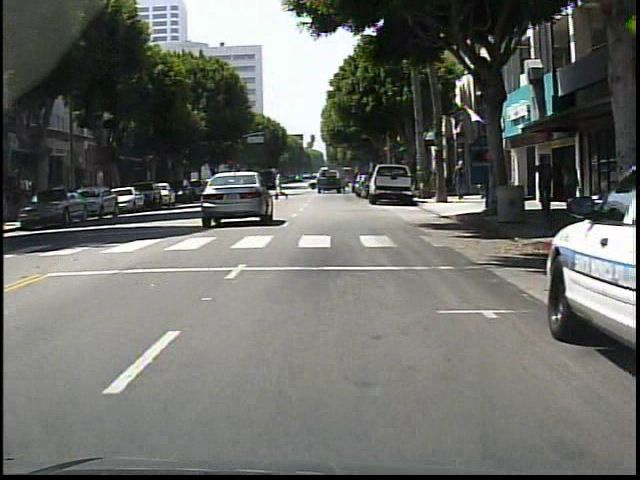person: (531, 155, 556, 218), (558, 152, 578, 221), (455, 157, 471, 199), (273, 169, 291, 200)
